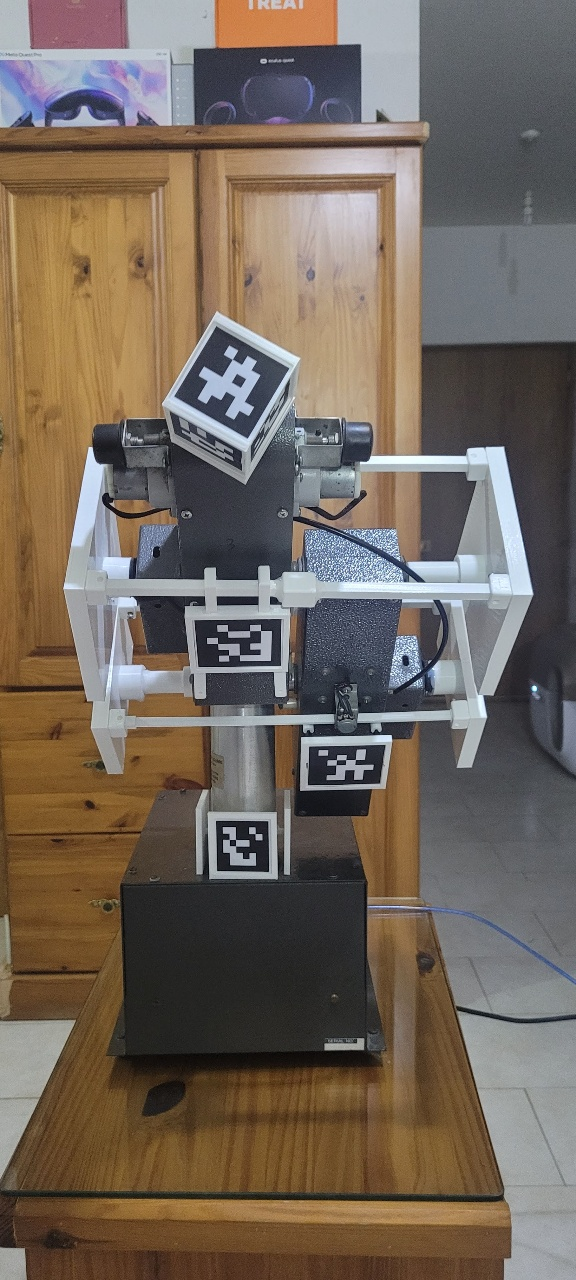Robot: (60, 312, 537, 885)
